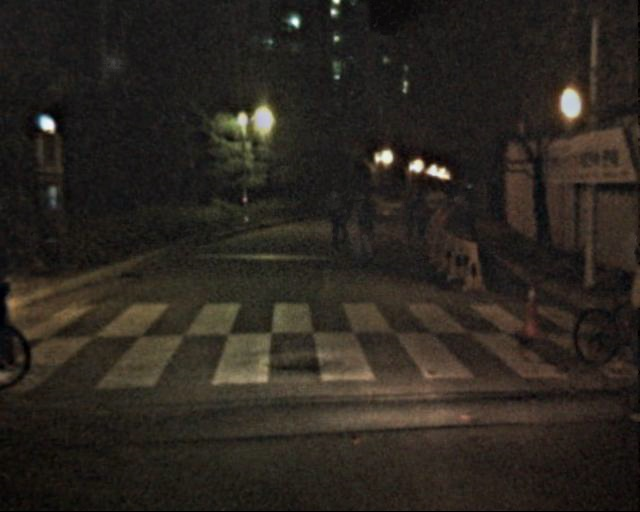person: (1, 201, 30, 377), (622, 234, 638, 412), (320, 188, 350, 260), (349, 191, 379, 263), (399, 195, 420, 247), (410, 196, 431, 247)
